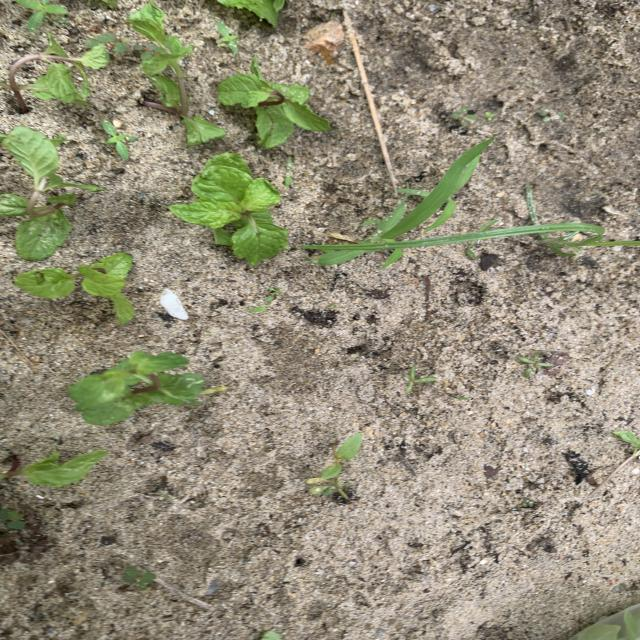crop: (1, 128, 102, 259), (170, 154, 288, 265), (134, 1, 223, 144), (219, 57, 329, 147), (69, 352, 203, 424), (15, 254, 134, 322), (2, 34, 107, 110), (0, 452, 107, 484), (217, 0, 285, 24)
weed: (363, 140, 491, 244), (386, 222, 640, 257), (321, 433, 361, 479), (16, 1, 66, 31), (105, 121, 137, 159), (518, 351, 552, 375), (403, 367, 435, 392), (309, 479, 349, 499), (123, 566, 155, 589), (87, 34, 128, 51), (218, 23, 238, 51), (0, 509, 25, 529), (451, 107, 475, 126), (283, 156, 292, 188), (200, 387, 227, 395), (266, 287, 279, 301), (522, 498, 534, 507), (484, 112, 495, 121), (248, 306, 267, 311)
